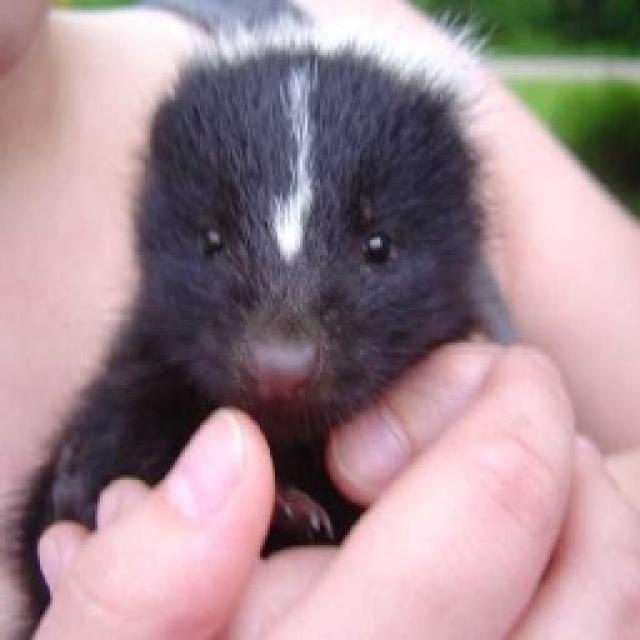not_pig: (2, 0, 520, 638)
